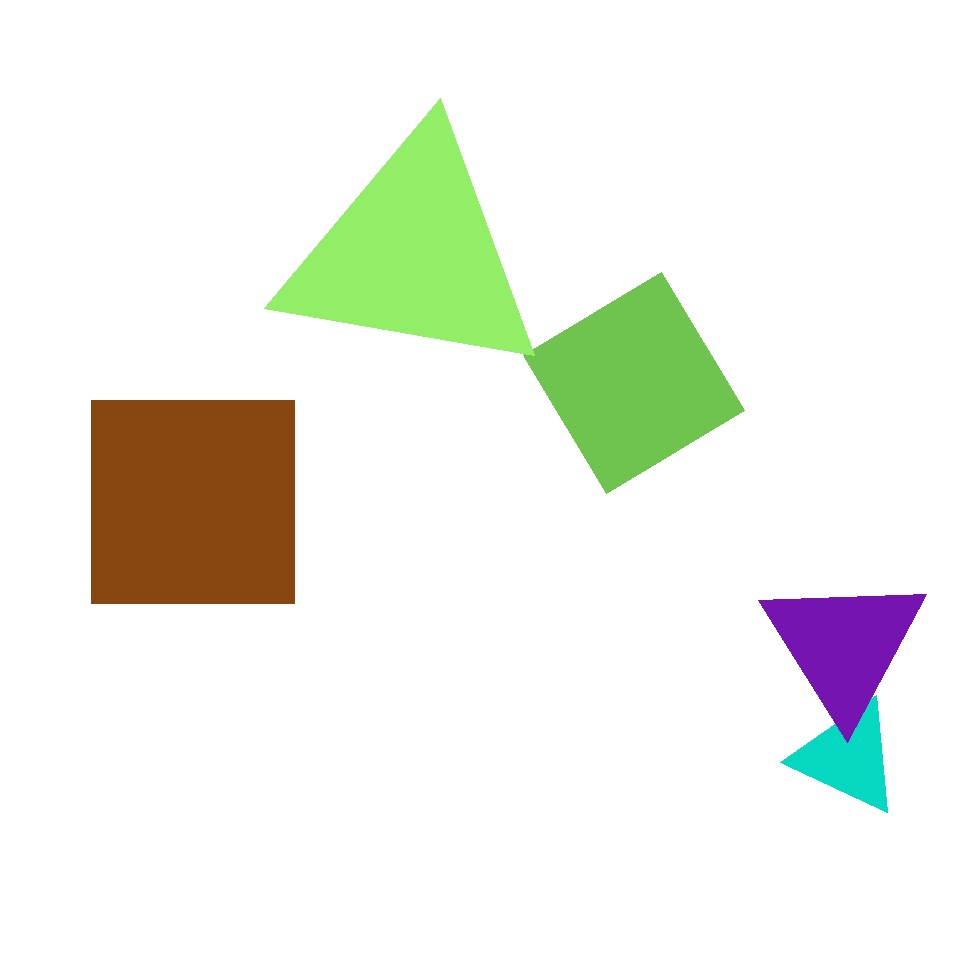circle: (278, 126, 548, 382), (760, 572, 928, 720), (71, 704, 223, 848), (794, 698, 902, 816)
square: (542, 304, 902, 663), (132, 367, 396, 630), (524, 272, 744, 494), (92, 401, 294, 604)
